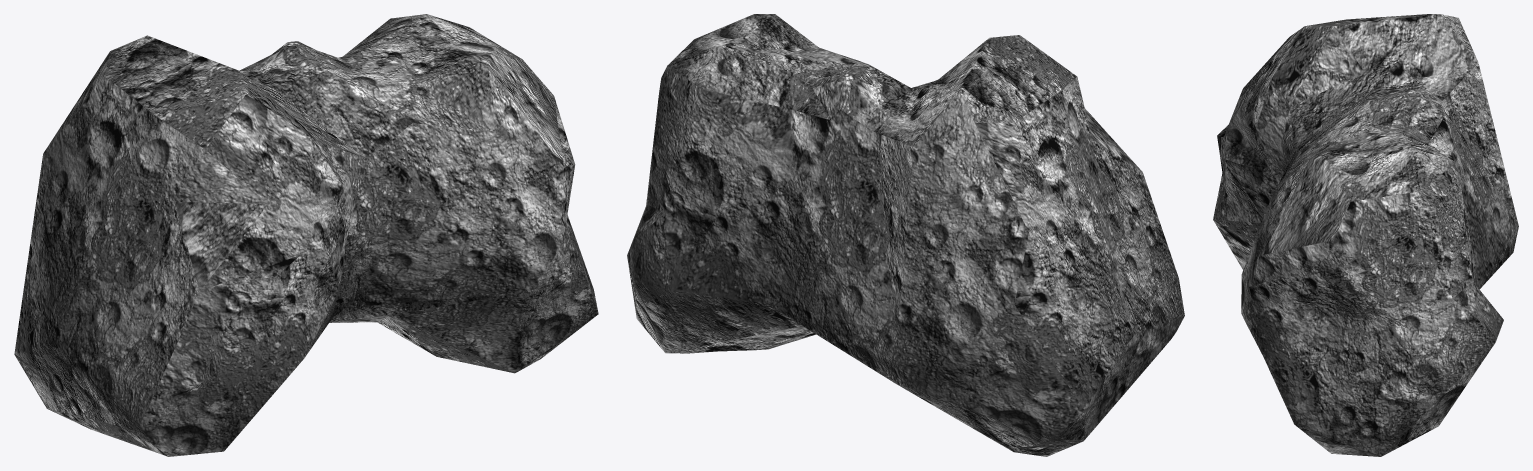
File: asteroid.FBX
3 views of the same model, side by side, from view 1: azimuth 30°, elevation 25°; view 2: azimuth 150°, elevation 25°; view 3: azimuth 270°, elevation 25° (orthographic). The views are drawn at different scales.
Visible parts, largest first — view 1: mithra; view 2: mithra; view 3: mithra.
Part boxes in pixels (<box>): mithra: <box>14,14,598,456</box>; mithra: <box>627,14,1184,456</box>; mithra: <box>1213,14,1518,456</box>.
Size of the model in its own units: 3.3 by 2.31 by 2.04.
1 material, 1 textured.
